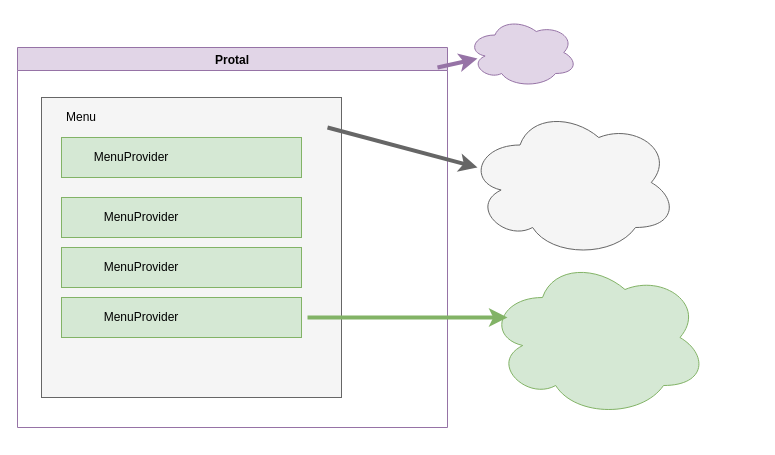
Image size: 775x455. Some labels were removed from this diagram. Here are the shapes that lost their labels. From the top down, the centre of each, then its label:
At (522,52): "将Menu 渲染 到body 下".
At (572,182): "Menu 整个组件的 渲染，包括 事件的 监听、Menu 的定位、 组件内容的渲染".
At (597,337): "用来包裹每一行 数据，将该行的参数 传递给 onContextMenu 回调函数".
